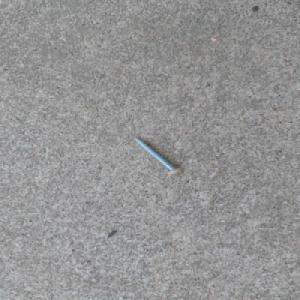Screw: (133, 136, 185, 175)
